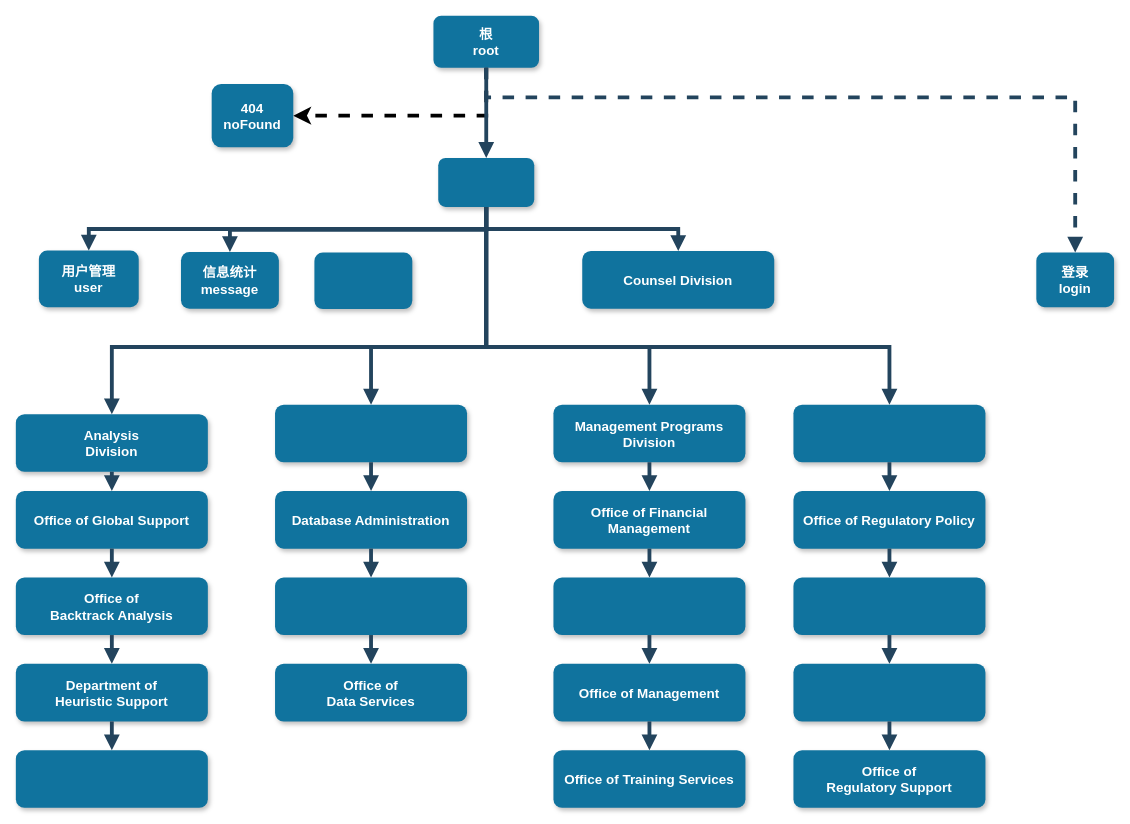
Some shapes in this 1130 by 824 pixel diagram are drawn without their labels. The shapes that lost their labels are listed below. From the top down, each one's centre as x and y in pixels, then its label:
point 487,183: 主页面 mainbox
point 364,281: 数据 data
point 371,434: IT Division
point 890,434: Regulatory and Enforcement Division
point 371,607: Office of Technology Research
point 650,607: Office of Human Resources
point 890,607: Office Compliance
point 890,694: Office of Enforcement
point 112,780: Office of Intelligence Support
